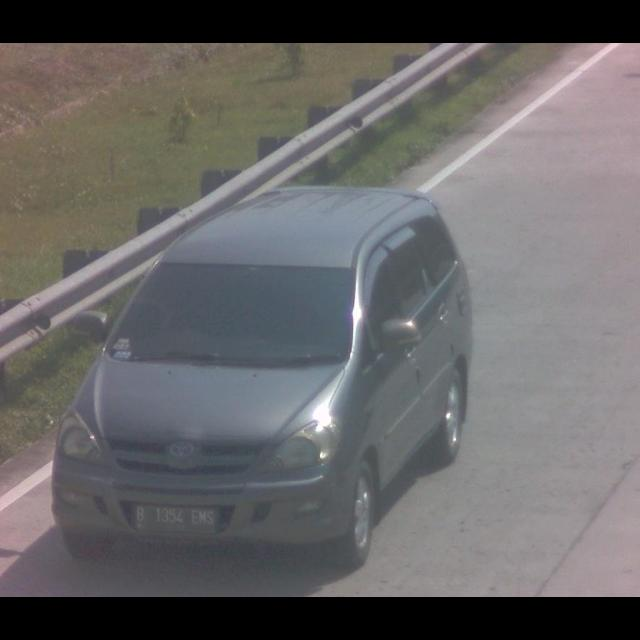plate: (134, 504, 216, 536)
